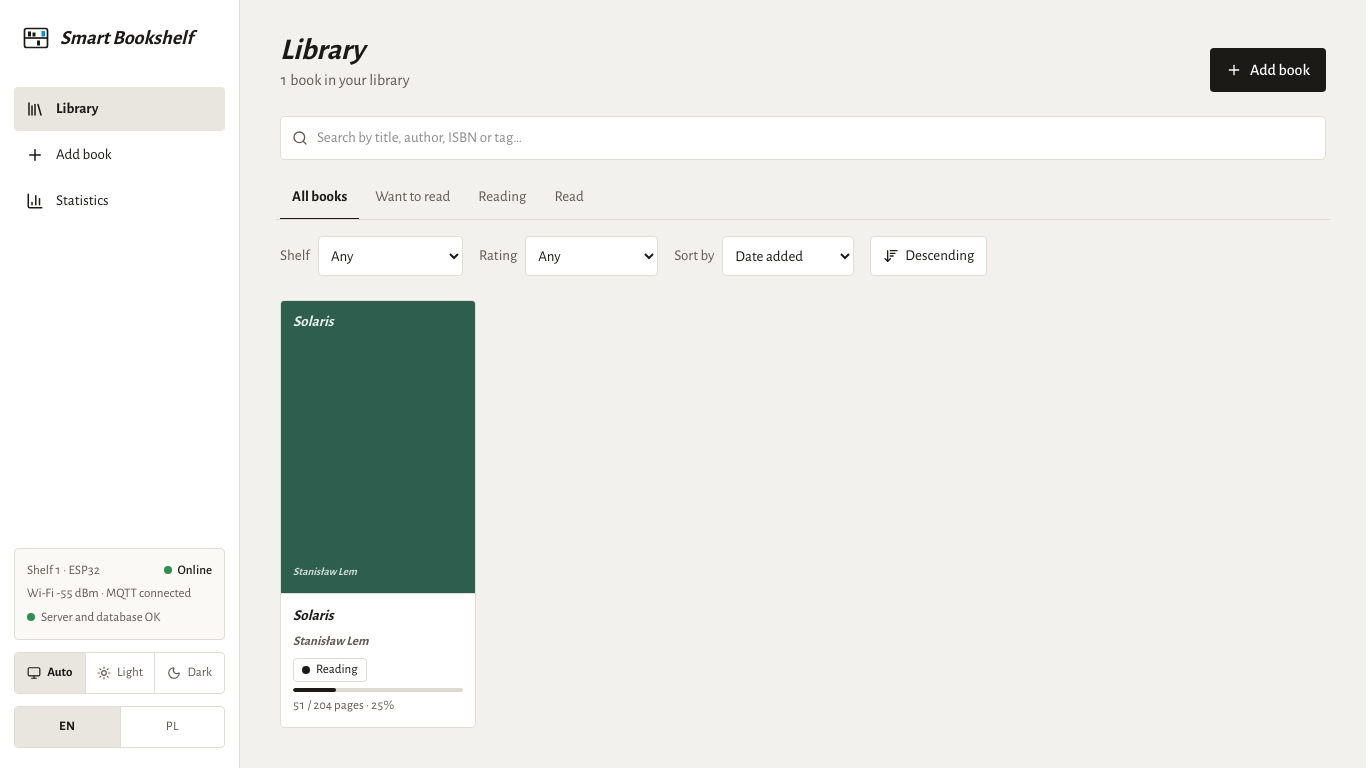
Scenario: language switch › switches the whole interface to Polish and remembers the choice
The width and height of the screenshot is (1366, 768).
Check: the heading "Library" is shown, box x1=280 y1=35 x2=365 y2=65
Click the button with aria-label "Polski" at (172, 727), box x1=120 y1=707 x2=224 y2=747
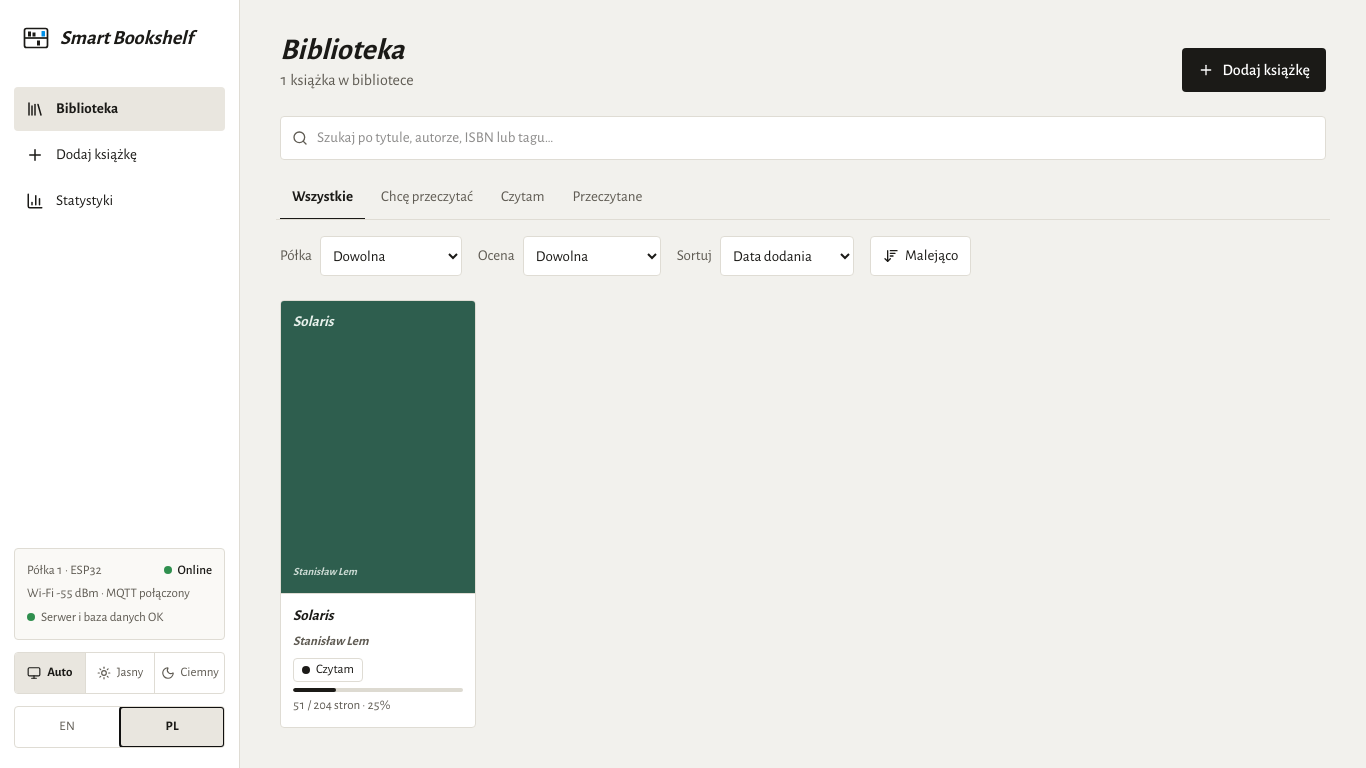
Check: the heading "Biblioteka" is shown, box x1=280 y1=32 x2=414 y2=68
Check: the text "1 książka w bibliotece" is shown, box x1=280 y1=68 x2=414 y2=92
Check: the button "Czytam" is shown, box x1=489 y1=176 x2=557 y2=220
